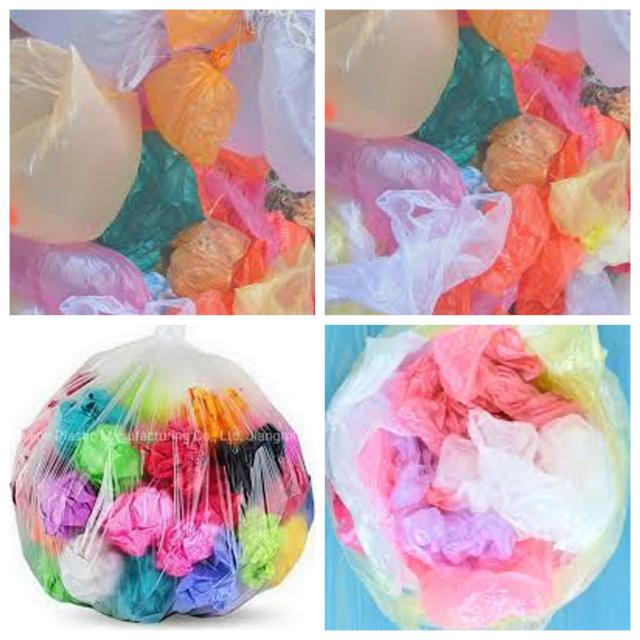Single-layer Plastic: (326, 326, 629, 629), (11, 339, 312, 621), (10, 38, 140, 244), (325, 190, 511, 315), (434, 184, 582, 315), (326, 129, 465, 254), (325, 10, 458, 136), (510, 44, 628, 181), (412, 26, 519, 168), (98, 131, 204, 272), (194, 149, 300, 287), (11, 10, 169, 92), (144, 40, 236, 166), (251, 10, 315, 190), (549, 108, 629, 241), (32, 241, 149, 314), (234, 234, 315, 315), (168, 219, 250, 297), (482, 114, 565, 190), (566, 221, 630, 315), (224, 42, 265, 154), (468, 10, 551, 62), (578, 10, 630, 86), (165, 10, 244, 52)
